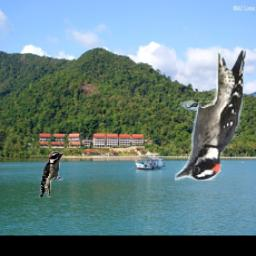Woodpecker: (175, 50, 246, 181), (40, 151, 66, 197)
